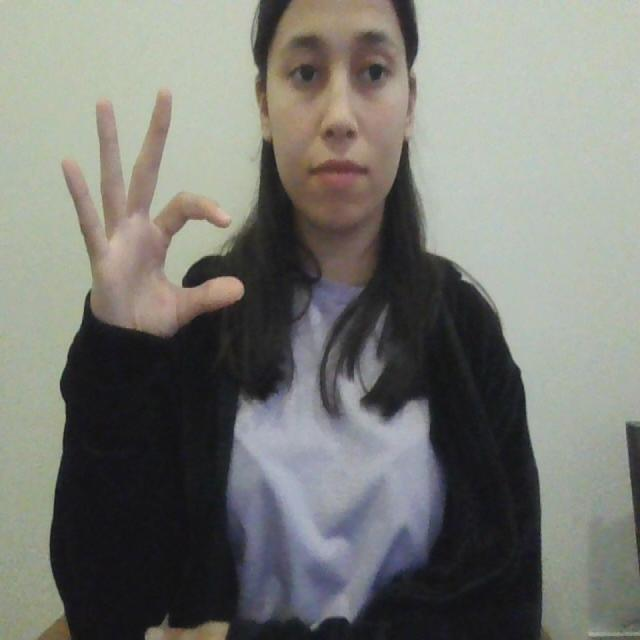Tuvalet: (58, 86, 250, 339)
